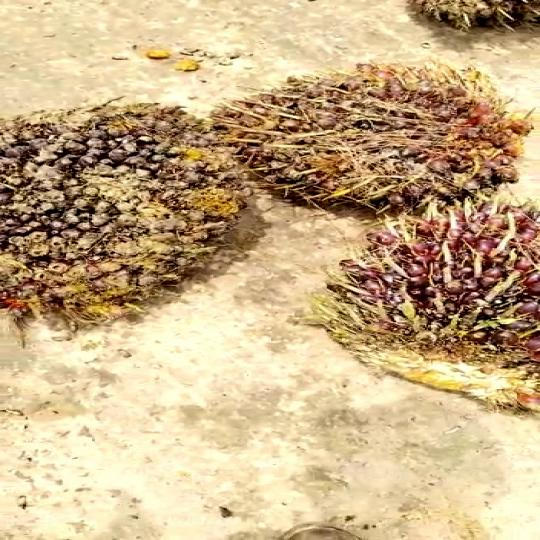kurang masak: (0, 89, 265, 331), (200, 65, 540, 217), (323, 193, 540, 418)
